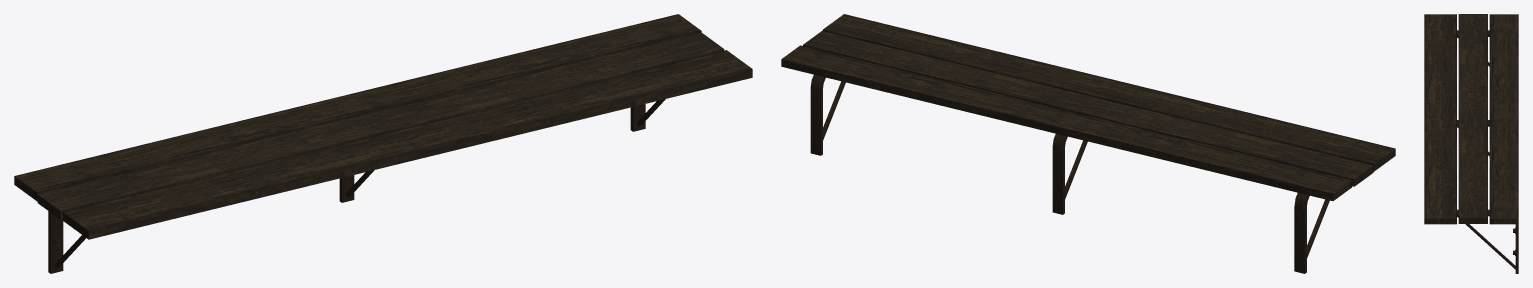
The model's file is hanging_shelf_mx_2_1.dae.
3 views of the same model, side by side, from view 1: azimuth 30°, elevation 25°; view 2: azimuth 150°, elevation 25°; view 3: azimuth 270°, elevation 25° (orthographic). The views are drawn at different scales.
Parts seen in each view (by area): view 1: hanging_shelf_mx_2_1; view 2: hanging_shelf_mx_2_1; view 3: hanging_shelf_mx_2_1.
Boxes of the visible parts, x1,y1,x2,y2 form: hanging_shelf_mx_2_1: [14, 14, 752, 273]; hanging_shelf_mx_2_1: [781, 14, 1395, 273]; hanging_shelf_mx_2_1: [1424, 14, 1518, 273].
Bounding box in the file's own units: 1.6 × 0.312 × 0.24.
2 materials, 2 textured.
